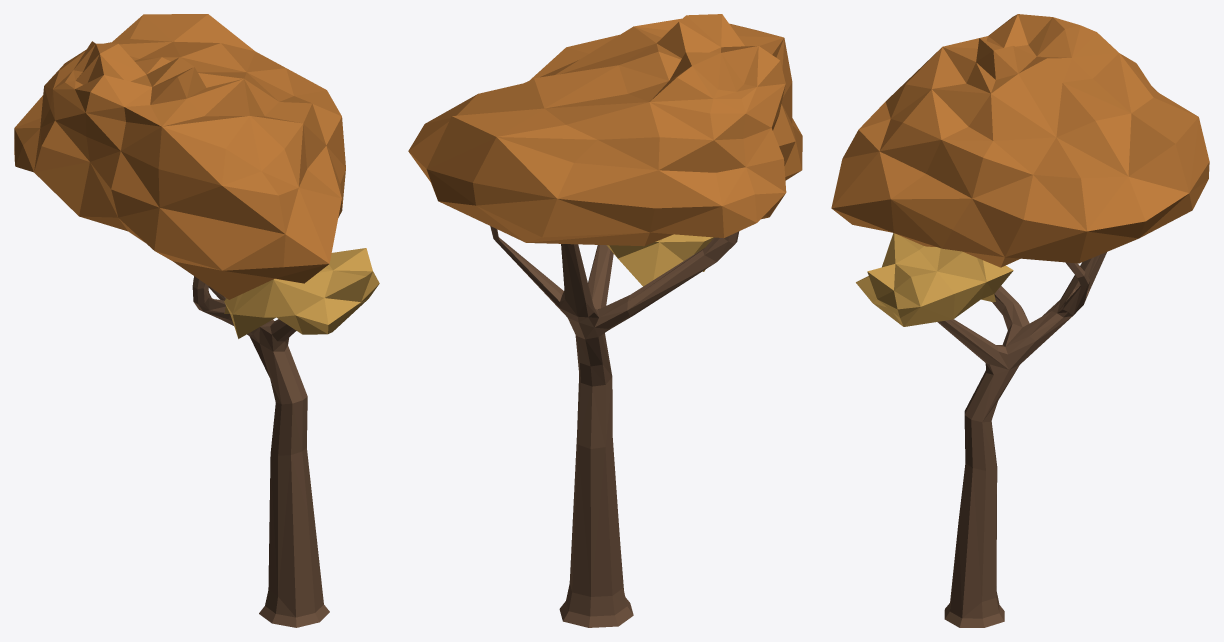
The model's file is CommonTree_Autumn_4.glb.
The picture shows the model from 3 angles, left to right: view 1: azimuth 30°, elevation 25°; view 2: azimuth 150°, elevation 25°; view 3: azimuth 270°, elevation 25°; orthographic projection. The views are drawn at different scales.
Parts seen in each view (by area): view 1: CommonTree_Autumn_4; view 2: CommonTree_Autumn_4; view 3: CommonTree_Autumn_4.
Part boxes in pixels (x1,y1,x2,y2): CommonTree_Autumn_4: (14, 14, 379, 627); CommonTree_Autumn_4: (408, 14, 802, 627); CommonTree_Autumn_4: (831, 14, 1209, 627).
Bounding box in the file's own units: 1.58 × 2.78 × 1.8.
